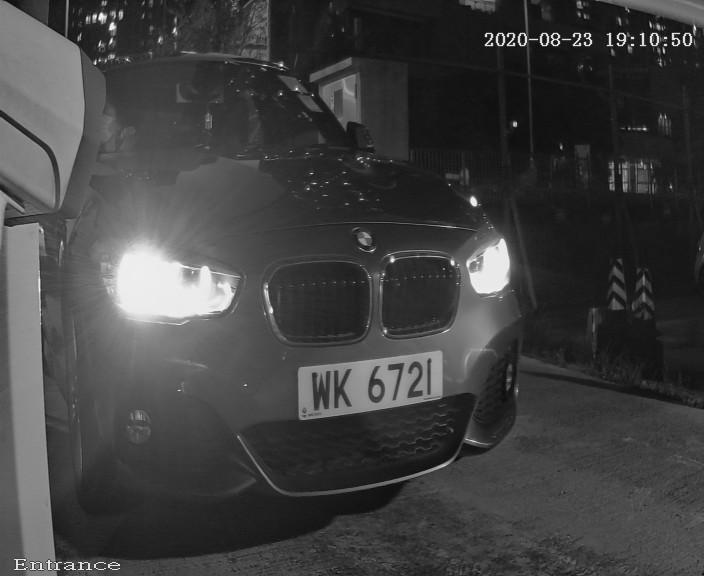License Plate: (258, 325, 477, 437)
